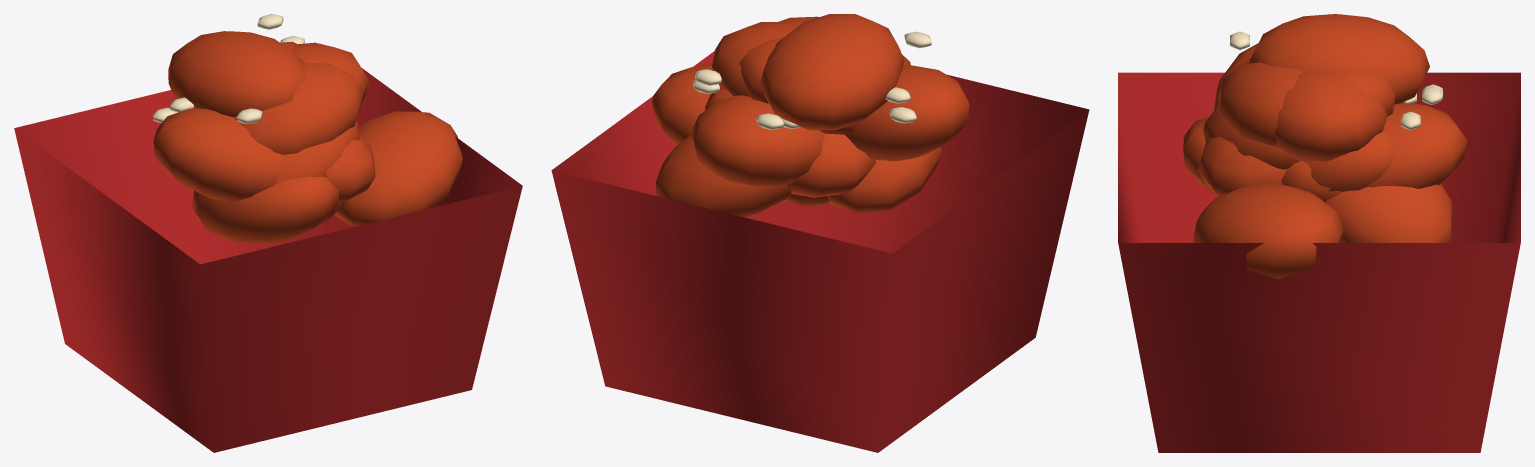
Rendered from holy-dragons.glb.
3 renders of one model, left to right at view 1: azimuth 30°, elevation 25°; view 2: azimuth 150°, elevation 25°; view 3: azimuth 270°, elevation 25°, orthographic. The views are drawn at different scales.
Bounding box in the file's own units: 0.1116 × 0.105 × 0.1089.
